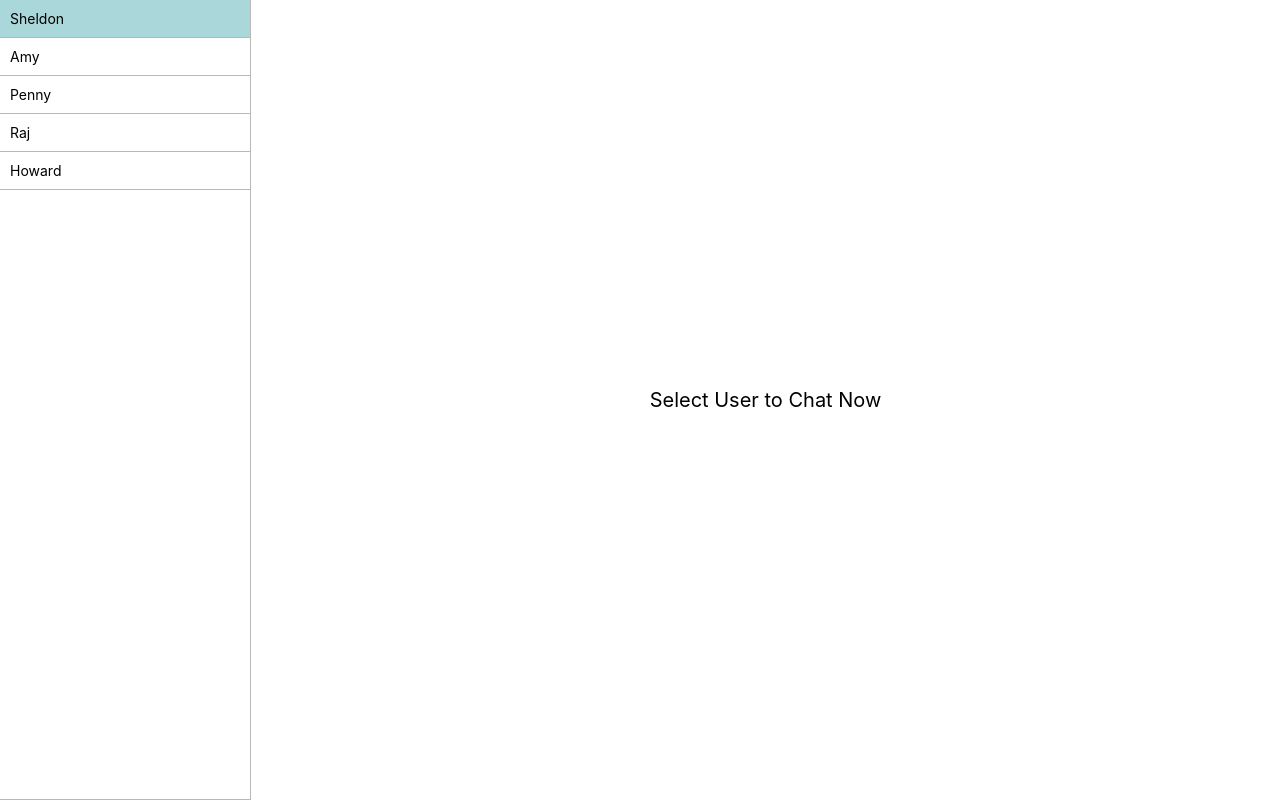
App Component › displays chat window when a friend is selected
Click the text "Sheldon".
click(125, 19)  # box [0,0,250,38]
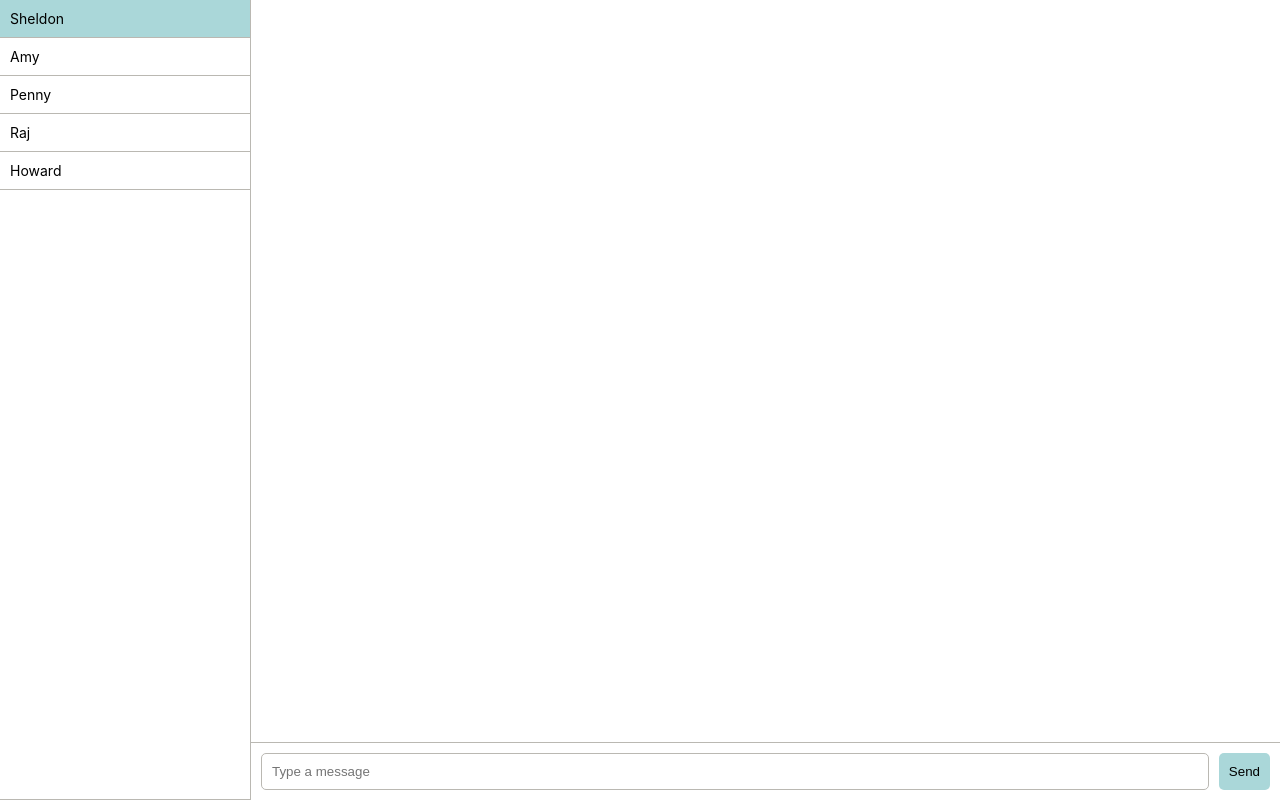
Expected: the text "Select User to Chat Now" is gone
Expected: the field with placeholder "Type a message" is shown, [261,753,1209,790]
